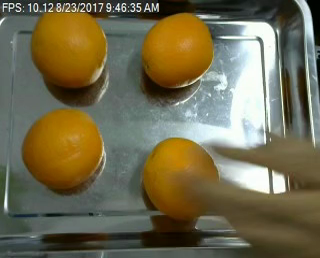Orange: (21, 108, 105, 188), (141, 136, 219, 217), (29, 7, 107, 86), (141, 11, 213, 87)
